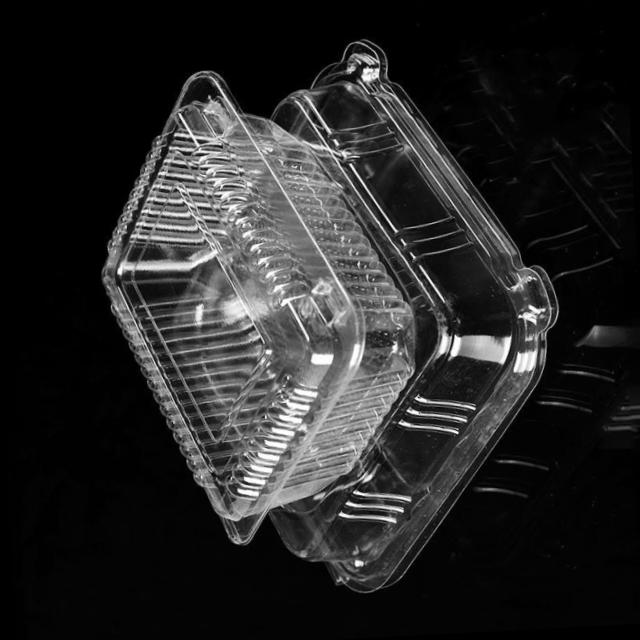plastic_box: (71, 22, 433, 570)
